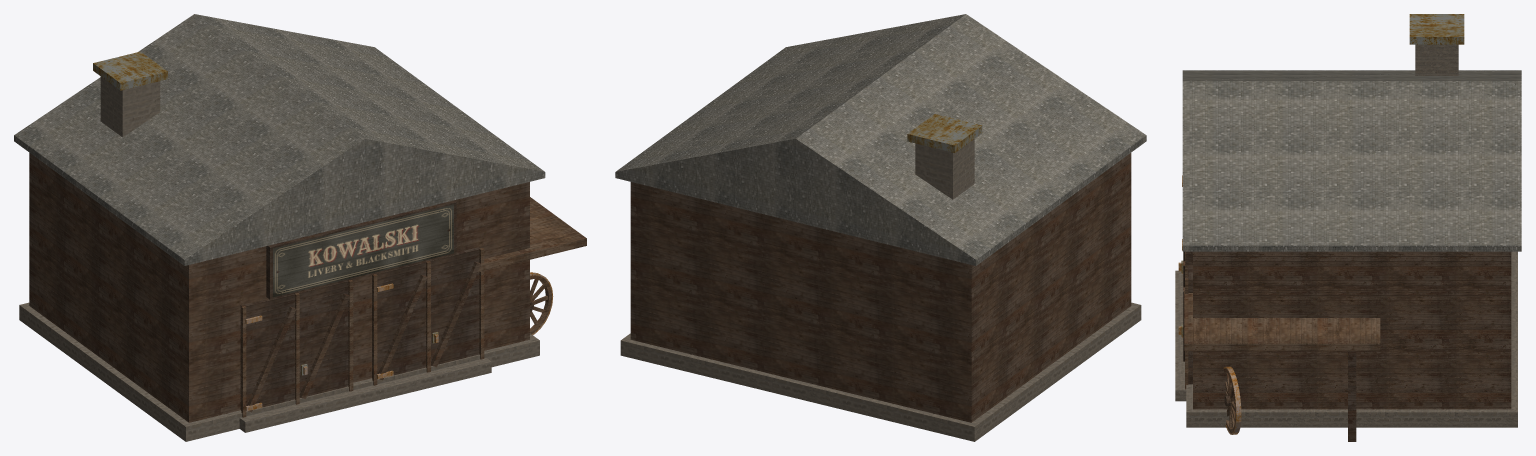
The model's file is kowalski_blacksmith.glb.
3 views of the same model, side by side, from view 1: azimuth 30°, elevation 25°; view 2: azimuth 150°, elevation 25°; view 3: azimuth 270°, elevation 25° (orthographic).
Visible parts, largest first — view 1: GabledRoof, MainBay, DoorL, KowalskiLivery, DoorR, Foundation, Shop threshold, Door stile (×6), Door diagonal (×4), Canopy, ForgeChimney, ForgeCap (+1 smaller); view 2: MainBay, GabledRoof, Foundation, ForgeChimney, ForgeCap; view 3: GabledRoof, MainBay, Foundation, Canopy, ForgeCap, ForgeChimney, Shop threshold, CanopyPost6.2, RepairWheelTyre.
Boxes of the visible parts, <box> form: GabledRoof: <box>14,14,545,265</box>; MainBay: <box>29,153,529,422</box>; DoorL: <box>240,281,348,410</box>; KowalskiLivery: <box>273,204,453,297</box>; DoorR: <box>372,247,479,377</box>; Foundation: <box>19,302,539,441</box>; Shop threshold: <box>239,358,491,432</box>; Door stile (×6): <box>241,248,484,417</box>; Door diagonal (×4): <box>247,261,481,412</box>; Canopy: <box>478,197,586,272</box>; ForgeChimney: <box>100,76,160,137</box>; ForgeCap: <box>93,51,167,90</box>; MainBay: <box>630,153,1131,422</box>; GabledRoof: <box>615,14,1146,265</box>; Foundation: <box>620,302,1141,441</box>; ForgeChimney: <box>915,139,974,199</box>; ForgeCap: <box>907,114,982,152</box>; GabledRoof: <box>1182,70,1521,251</box>; MainBay: <box>1193,251,1511,409</box>; Foundation: <box>1186,251,1517,427</box>; Canopy: <box>1184,292,1380,350</box>; ForgeCap: <box>1409,14,1464,44</box>; ForgeChimney: <box>1415,44,1458,75</box>; Shop threshold: <box>1175,270,1186,401</box>; CanopyPost6.2: <box>1348,351,1356,441</box>; RepairWheelTyre: <box>1223,366,1241,434</box>.
Size of the model in its own units: 12.3 by 7.73 by 9.2.
Materials: 9 (9 with a texture image).
